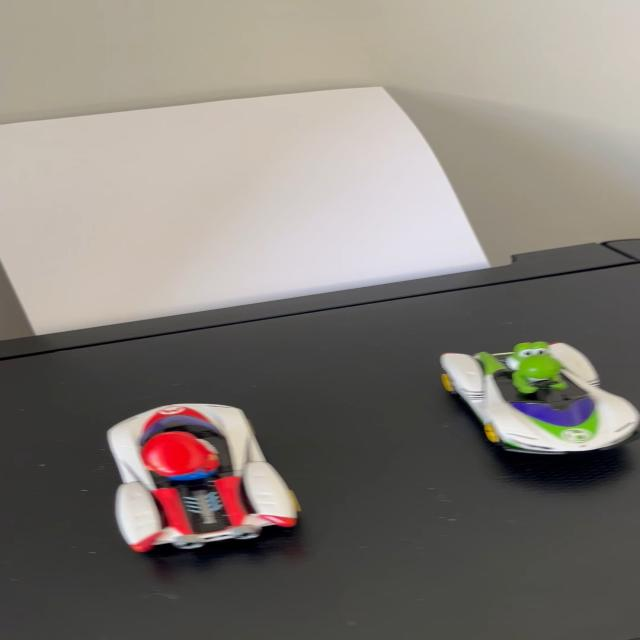mario: (96, 396, 331, 558)
yoshi: (426, 328, 640, 462)
